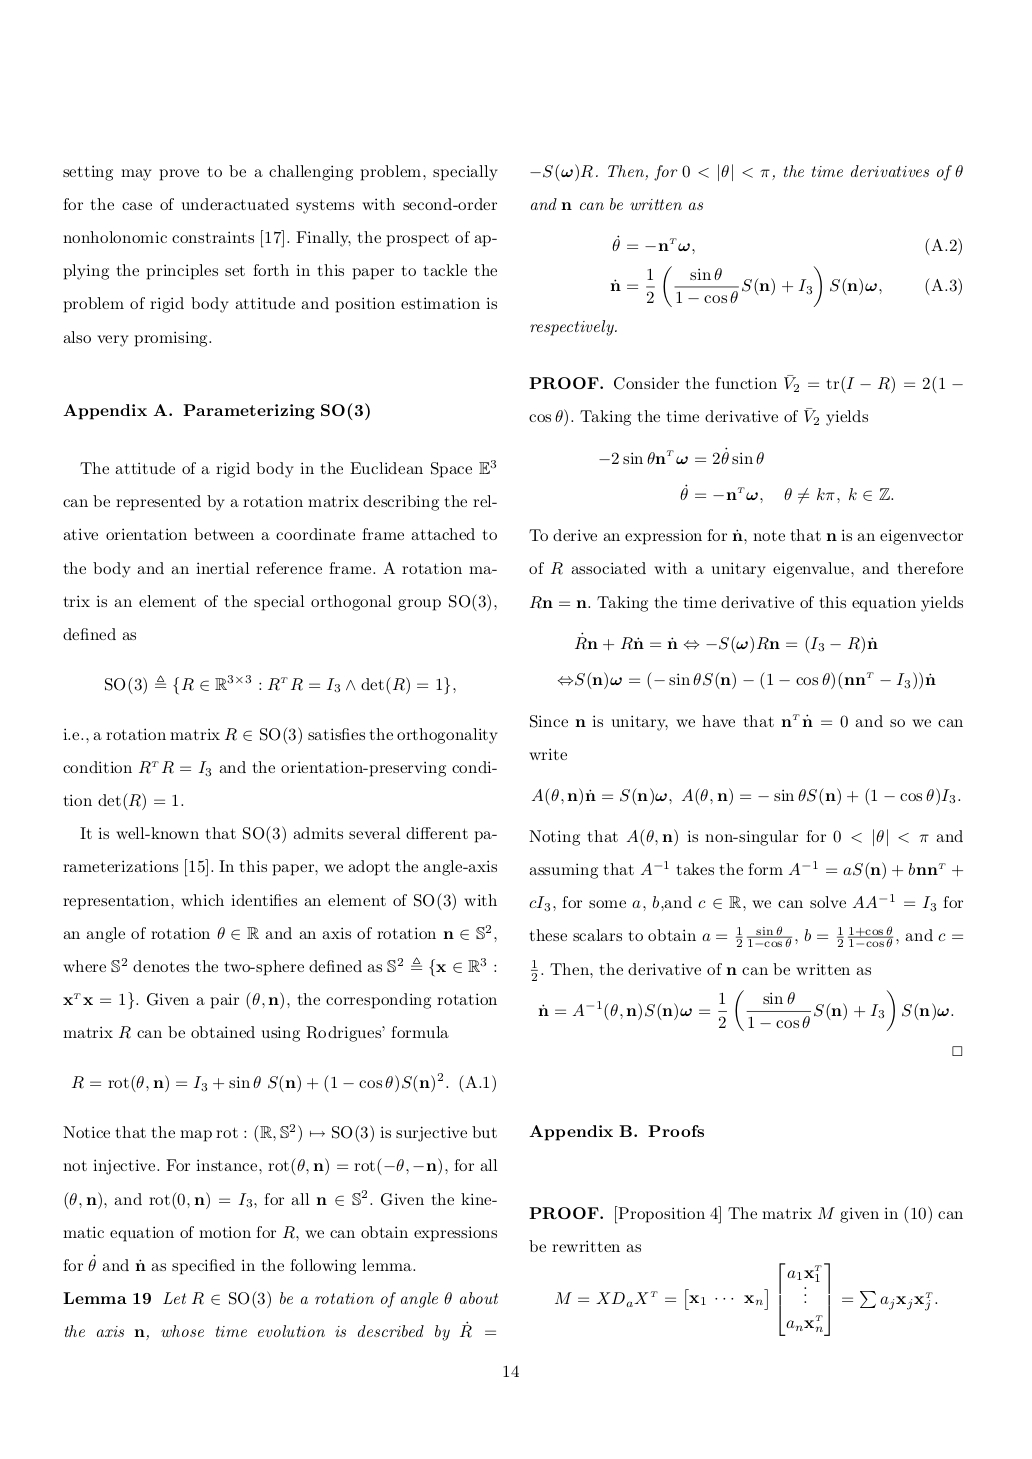formula: (554, 1261, 937, 1336), (538, 989, 953, 1031), (610, 265, 961, 307), (71, 1072, 495, 1093), (531, 787, 961, 806), (105, 674, 455, 695), (612, 234, 961, 256), (557, 671, 935, 690), (574, 631, 877, 654), (680, 483, 894, 503), (599, 447, 763, 465)
